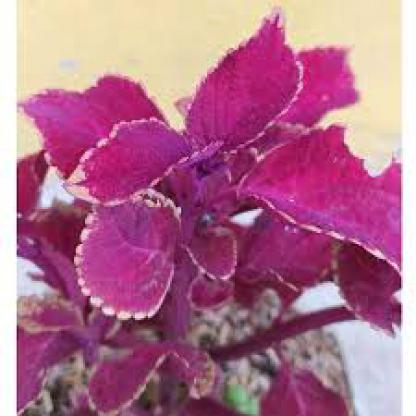Bunga Coleus: (44, 75, 367, 402)
